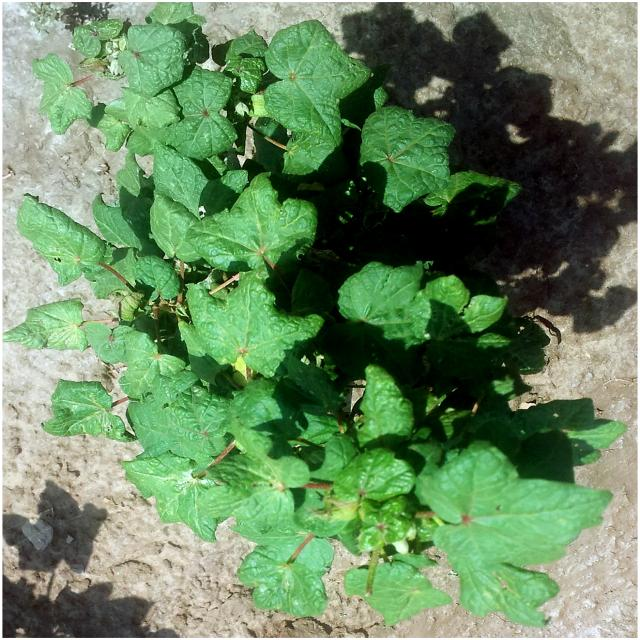Leaf Curl Virus: (111, 33, 358, 388)
